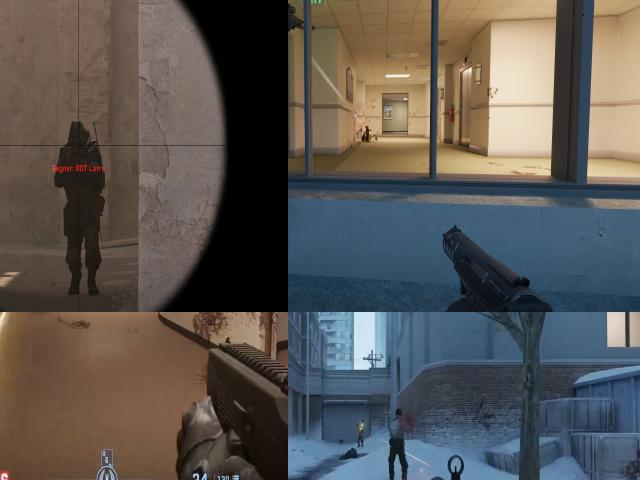CT: (60, 120, 100, 293), (357, 422, 366, 444)
CT-Head: (68, 123, 86, 147)
Dead: (338, 444, 362, 463), (360, 128, 378, 142)
T: (388, 414, 408, 450)
T-Head: (393, 407, 406, 425)
